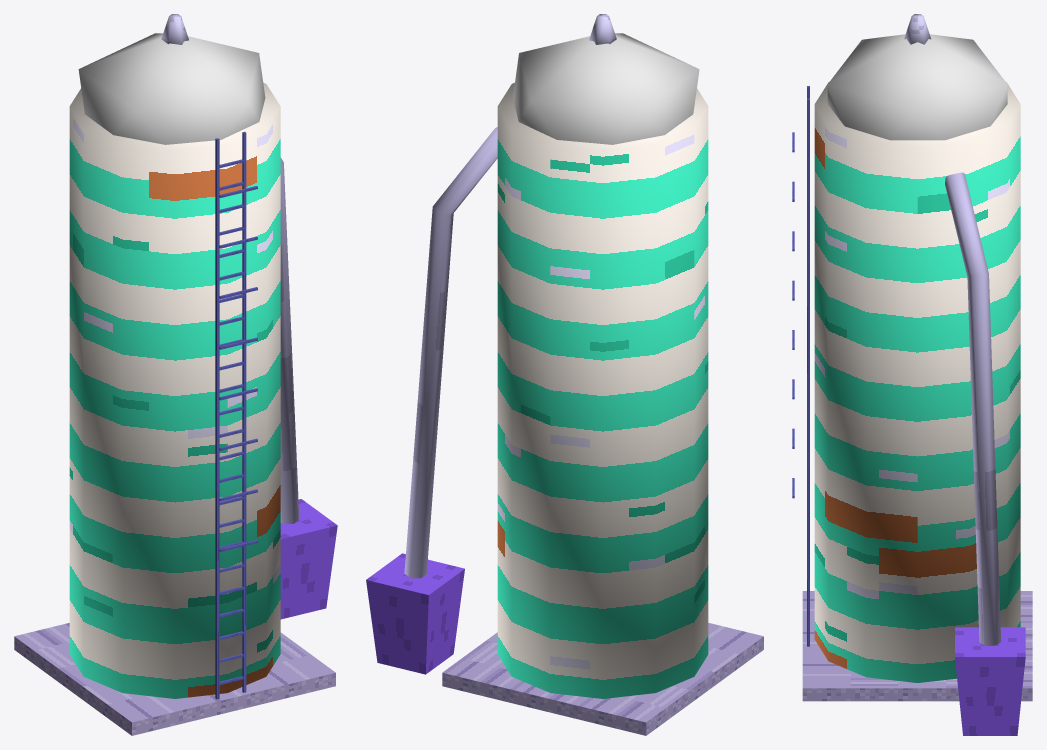
File: Silo.fbx
The picture shows the model from 3 angles, left to right: view 1: azimuth 30°, elevation 25°; view 2: azimuth 150°, elevation 25°; view 3: azimuth 270°, elevation 25°; orthographic projection. The views are drawn at different scales.
Parts seen in each view (by area): view 1: Silo body, Silo dome, Silo base, Silo hopper, Silo chute, Silo ladder rail -1, Silo ladder rail 1, Silo vent; view 2: Silo body, Silo dome, Silo base, Silo chute, Silo hopper; view 3: Silo body, Silo dome, Silo chute, Silo hopper, Silo base, Silo ladder rail 1, Silo vent.
Boxes of the visible parts, <box> form: Silo body: <box>69,82,280,698</box>; Silo dome: <box>78,33,265,144</box>; Silo base: <box>14,623,335,735</box>; Silo hopper: <box>280,499,337,619</box>; Silo chute: <box>280,157,299,523</box>; Silo ladder rail -1: <box>215,138,219,699</box>; Silo ladder rail 1: <box>242,131,246,692</box>; Silo vent: <box>161,14,188,44</box>; Silo body: <box>497,82,708,698</box>; Silo dome: <box>513,33,699,144</box>; Silo base: <box>442,623,763,735</box>; Silo chute: <box>404,127,497,578</box>; Silo hopper: <box>366,553,464,674</box>; Silo body: <box>814,82,1020,682</box>; Silo dome: <box>827,34,1007,140</box>; Silo chute: <box>945,172,1001,645</box>; Silo hopper: <box>955,627,1025,735</box>; Silo base: <box>802,591,1032,701</box>; Silo ladder rail 1: <box>807,98,809,646</box>; Silo vent: <box>904,14,930,44</box>.
Size of the model in its own units: 5.28 by 11.6 by 3.97.
Materials: 7 (6 with a texture image).
